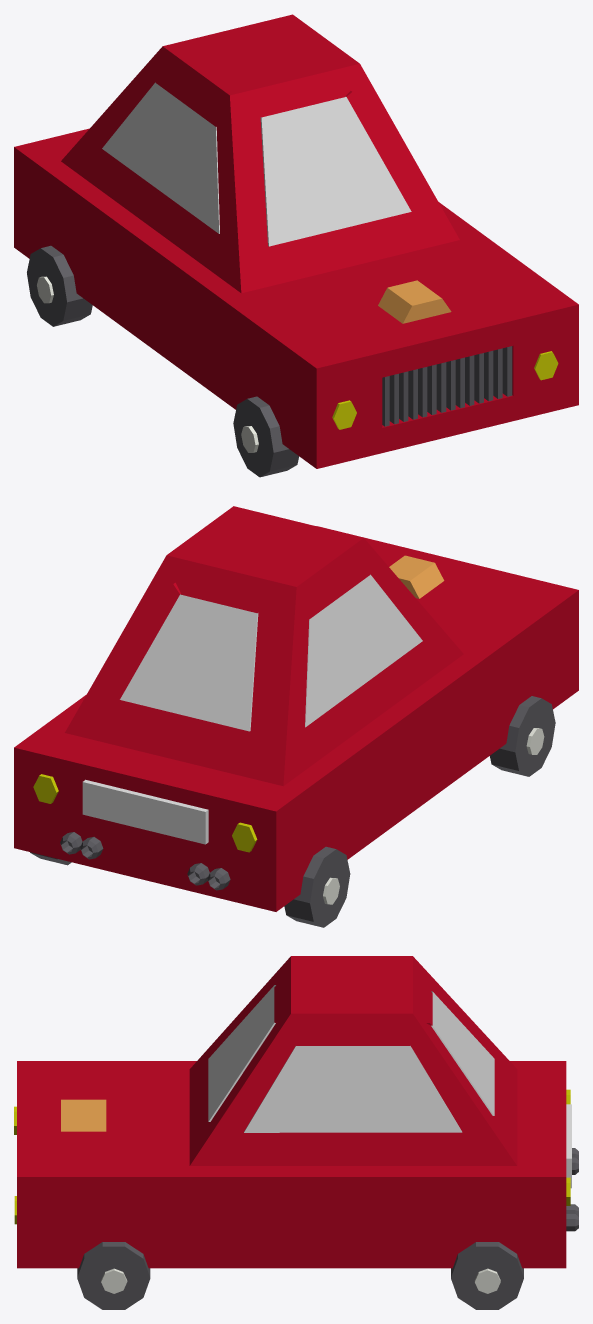
File: Car.fbx
3 views of the same model, one above another, from view 1: azimuth 30°, elevation 25°; view 2: azimuth 150°, elevation 25°; view 3: azimuth 270°, elevation 25° (orthographic). The views are drawn at different scales.
Visible parts, largest first — view 1: Cube, Cube.001, Cube.002, Cylinder.006, Cylinder.005; view 2: Cube.001, Cube, Cube.003, Cylinder.004, Cylinder.006, Cylinder.005, Cylinder.003, Cylinder.002; view 3: Cube, Cube.001, Cylinder.006, Cylinder.005, Cylinder.004, Cube.003.
Part boxes in pixels (x1,y1,x2,y2): Cube: (14, 128, 578, 468); Cube.001: (27, 14, 459, 477); Cube.002: (382, 346, 512, 426); Cylinder.006: (378, 280, 451, 323); Cylinder.005: (37, 276, 258, 452); Cube.001: (30, 506, 555, 927); Cube: (14, 526, 578, 911); Cube.003: (82, 779, 208, 844); Cylinder.004: (60, 832, 230, 890); Cylinder.006: (389, 555, 444, 598); Cylinder.005: (323, 728, 544, 904); Cylinder.003: (33, 774, 58, 803); Cylinder.002: (232, 822, 257, 852); Cube: (17, 1061, 566, 1268); Cube.001: (77, 956, 523, 1309); Cylinder.006: (61, 1099, 106, 1131); Cylinder.005: (101, 1268, 500, 1293); Cylinder.004: (566, 1148, 578, 1231); Cube.003: (566, 1104, 571, 1188).
Size of what is drawn, in the model's own units: 333 by 315 by 617.
